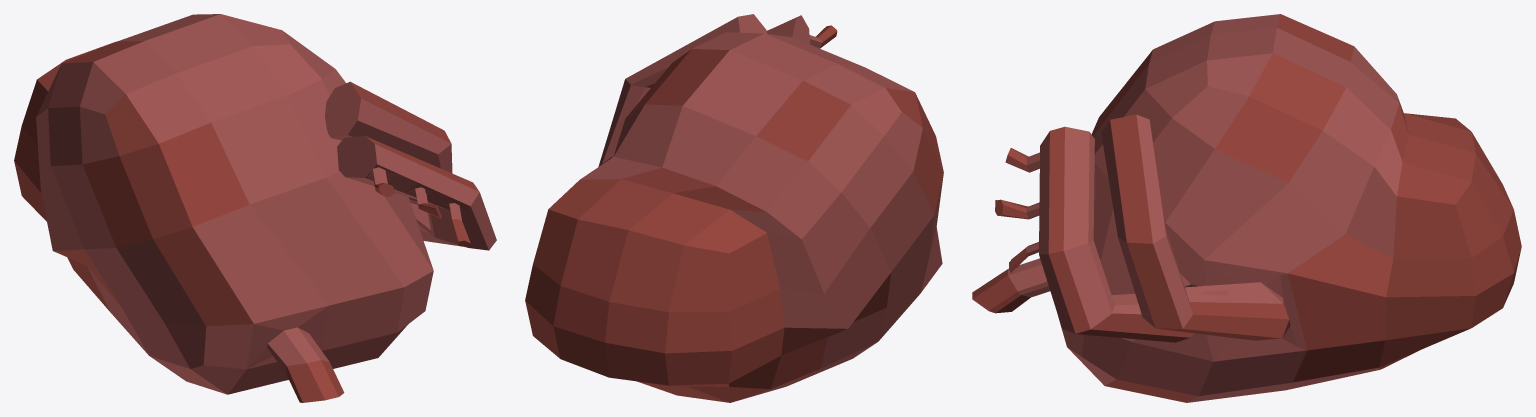
The model's file is HumanHeart.glb.
3 renders of one model, left to right at view 1: azimuth 30°, elevation 25°; view 2: azimuth 150°, elevation 25°; view 3: azimuth 270°, elevation 25°, orthographic. The views are drawn at different scales.
Parts seen in each view (by area): view 1: Cube; view 2: Cube; view 3: Cube.
Boxes of the visible parts, x1,y1,x2,y2 form: Cube: (14, 14, 496, 402); Cube: (525, 14, 943, 402); Cube: (972, 14, 1521, 402).
Bounding box in the file's own units: 0.1418 × 0.1275 × 0.202.
